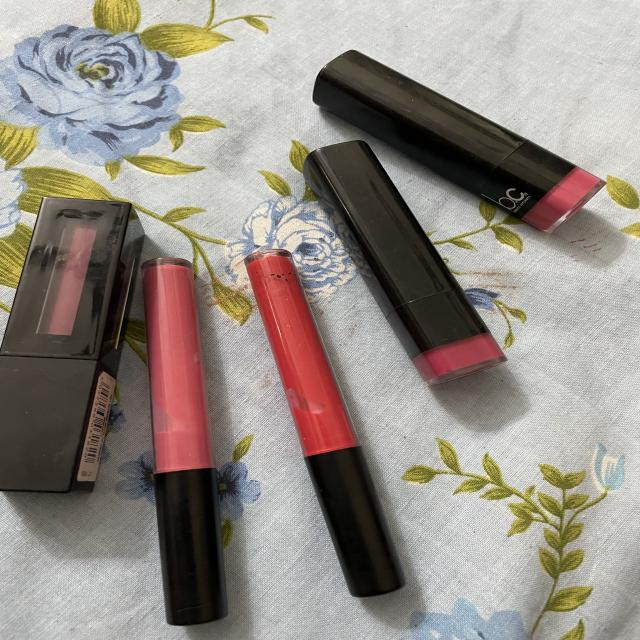lip gloss: (227, 237, 415, 606), (0, 173, 159, 507), (130, 248, 232, 640)
lip stick: (284, 27, 640, 396), (302, 25, 622, 238)
